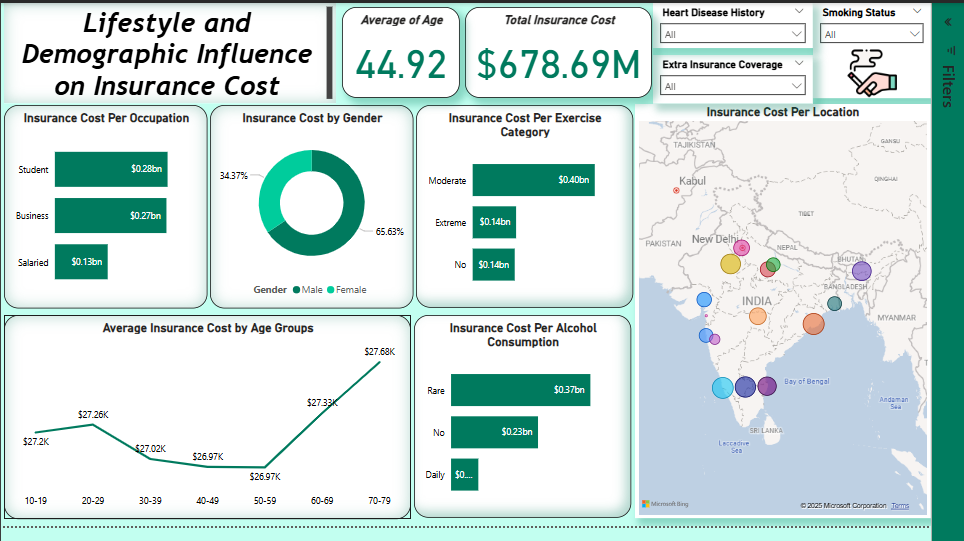

Layout of this report page (visuals, bound fields, positions):
{"tool":"powerbi","page":{"name":"LDIIC","canvas":[1280,720],"ordinal":2},"visuals":[{"type":"slicer","fields":{"Values":["Data.smoking_status"]},"box":[1117.6,0,162.4,130.8],"z":0},{"type":"clusteredBarChart","title":"Insurance Cost Per Occupation","fields":{"Y":["Sum(Data.insurance_cost)"],"Category":["Data.Occupation"]},"box":[4.5,140.4,280,280],"z":1000},{"type":"lineChart","title":"Average Insurance Cost by Age Groups","fields":{"Y":["Avg(Data.insurance_cost)"],"Category":["Data.Age Groups"]},"box":[4.1,429.4,560.2,280.8],"z":2000},{"type":"donutChart","title":"Insurance Cost by Gender","fields":{"Category":["Data.Gender"],"Y":["Sum(Data.insurance_cost)"]},"box":[287.4,140.4,280,280],"z":3000},{"type":"clusteredBarChart","title":"Insurance Cost Per Alcohol Consumption","fields":{"Y":["Sum(Data.insurance_cost)"],"Category":["Data.Alcohol"]},"box":[568.4,429.4,298.7,279.4],"z":4000},{"type":"map","title":"Insurance Cost Per Location","fields":{"Size":["Sum(Data.insurance_cost)"],"Category":["Data.Location"],"Series":["Data.Location"]},"box":[872.6,139,407.4,569.8],"z":5000},{"type":"clusteredBarChart","title":"Insurance Cost Per Exercise Category","fields":{"Y":["Sum(Data.insurance_cost)"],"Category":["Data.exercise"]},"box":[571.2,140.4,298.7,279.4],"z":6000},{"type":"slicer","fields":{"Values":["Data.covered_by_any_other_company"]},"box":[897.4,71.6,220.2,67.4],"z":7000},{"type":"slicer","fields":{"Values":["Data.heart_decs_history"]},"box":[897.4,0,220.2,61.9],"z":8000},{"type":"card","title":"Total Insurance Cost","fields":{"Values":["Sum(Data.insurance_cost)"]},"box":[638.6,5.5,257.4,125.2],"z":9000},{"type":"card","title":"Average of Age","fields":{"Values":["Avg(Data.age)"]},"box":[469.3,5.5,162.4,125.2],"z":10000},{"type":"image","box":[1123.1,57.8,151.4,78.5],"z":11000},{"type":"textbox","box":[4.1,0,456.9,137.6],"z":12000}]}

Visuals, with their boxes on the page's 1280x720 design canvas (x1, y1, x2, y2). These are canvas units, not pixel positions in the 964x541 screenshot, which may show the page scaled, cropped or inside an application window:
slicer - Data.smoking_status: left=1118, top=0, right=1280, bottom=131
"Insurance Cost Per Occupation" clusteredBarChart: left=4, top=140, right=284, bottom=420
"Average Insurance Cost by Age Groups" lineChart: left=4, top=429, right=564, bottom=710
"Insurance Cost by Gender" donutChart: left=287, top=140, right=567, bottom=420
"Insurance Cost Per Alcohol Consumption" clusteredBarChart: left=568, top=429, right=867, bottom=709
"Insurance Cost Per Location" map: left=873, top=139, right=1280, bottom=709
"Insurance Cost Per Exercise Category" clusteredBarChart: left=571, top=140, right=870, bottom=420
slicer - Data.covered_by_any_other_company: left=897, top=72, right=1118, bottom=139
slicer - Data.heart_decs_history: left=897, top=0, right=1118, bottom=62
"Total Insurance Cost" card: left=639, top=6, right=896, bottom=131
"Average of Age" card: left=469, top=6, right=632, bottom=131
image: left=1123, top=58, right=1274, bottom=136
textbox: left=4, top=0, right=461, bottom=138
